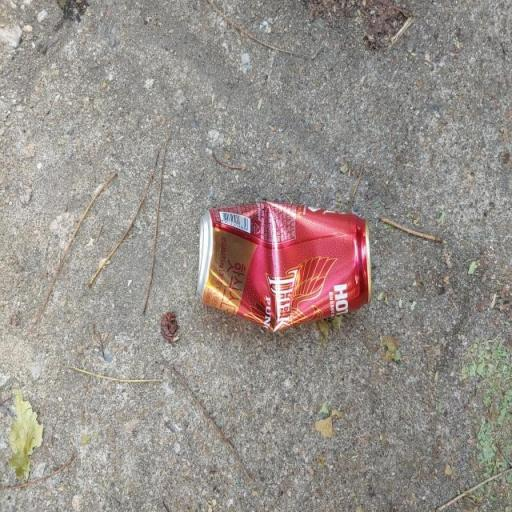metal: (186, 183, 393, 362)
